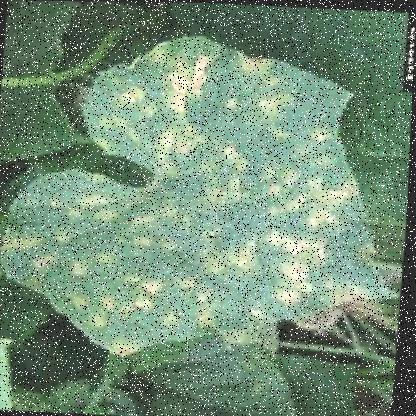DownyMildew: (0, 26, 414, 364), (140, 139, 350, 331), (84, 35, 300, 170), (4, 170, 184, 304)
